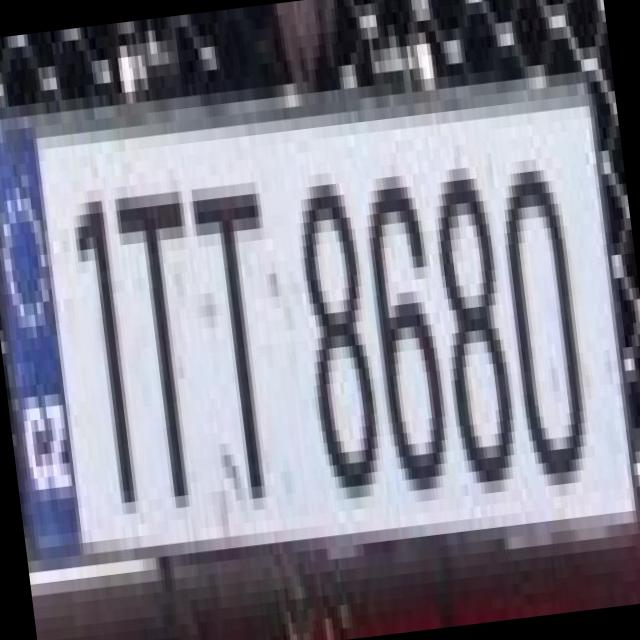0: (482, 133, 594, 477)
1: (56, 164, 150, 517)
6: (341, 138, 452, 482)
8: (274, 147, 388, 490), (412, 142, 524, 486)
T: (170, 146, 299, 503), (96, 155, 222, 512)
